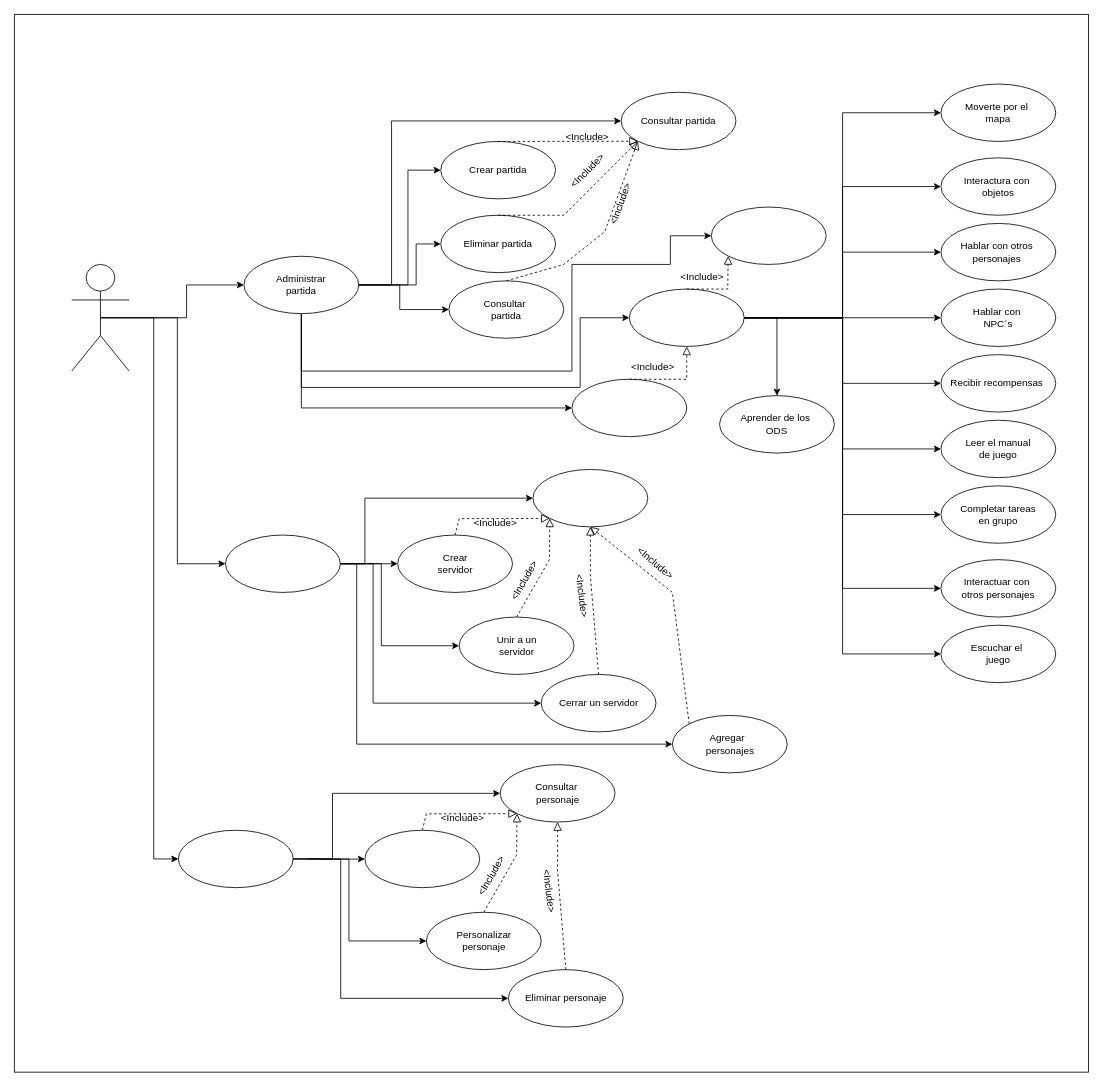
Image size: 1103x1087. Some labels were removed from this diagram. The shapes that lost their labels are listed below. From the top down, each one's centre as x and y in pixels, then its label:
point 768,235: Iniciar una partida
point 100,317: Administrador
point 686,317: Jugar partida
point 629,407: Finalizar partida
point 590,498: Consultar servidor
point 282,563: Administrar servidor
point 235,858: Administrar personaje
point 422,858: Crear personaje
